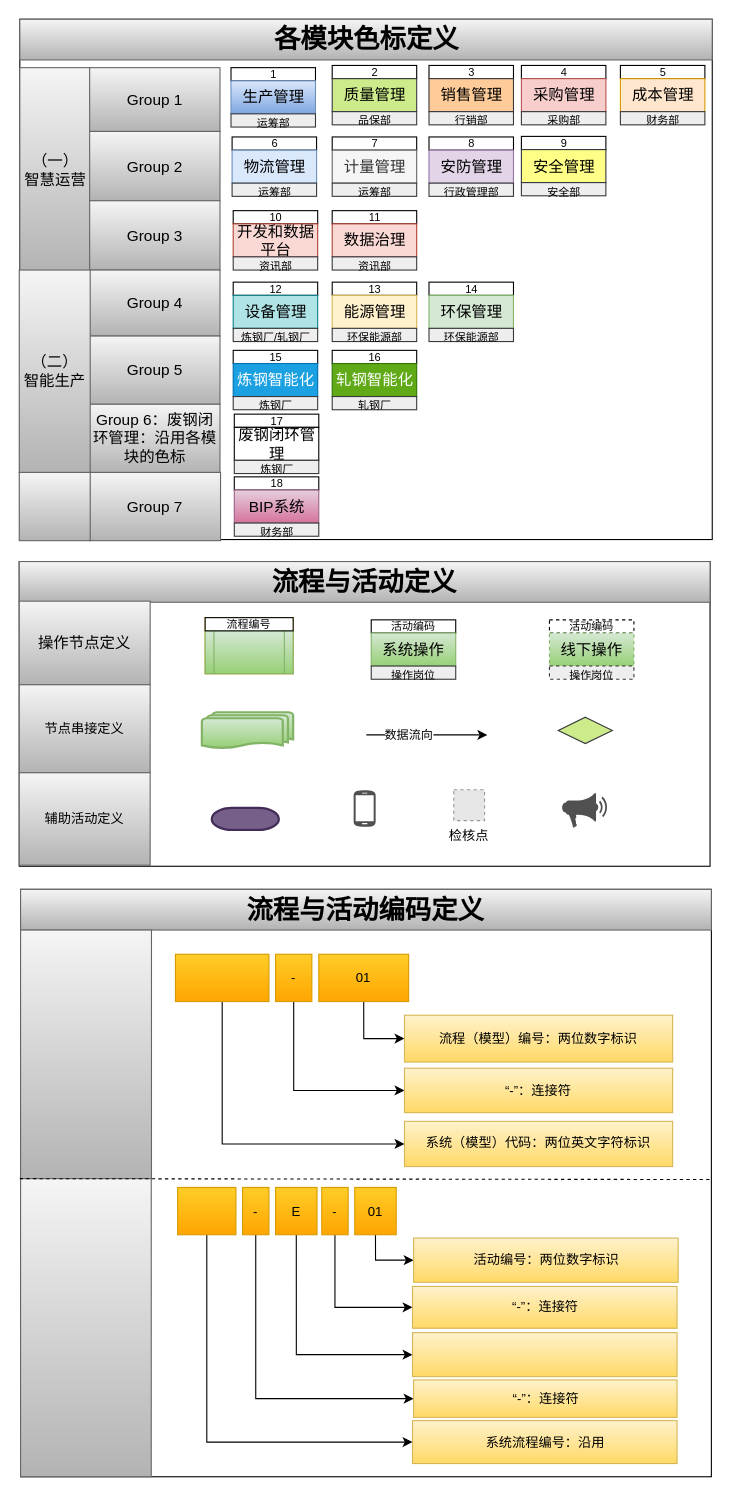
Image size: 732x1496. Some labels were removed from this diagram. Grey dashed boxes stand in for pictures. Here are the shapes that lost their labels. From the top down, the centre of each, then its label:
At [54,506]: "（三） 异质系统".
At [248,652]: "子流程 /模型".
At [247,730]: "系统表单".
At [584,730]: "逻辑判定".
At [244,818]: "开始/结束".
At [364,808]: "移动操作".
At [584,809]: "警示提醒".
At [221,977]: "MP".
At [85,1054]: "流程(模型) 编码定义".
At [206,1210]: "MP-01".
At [85,1327]: "活动编码定义".
At [544,1354]: "操作系统标识：E-金恒平台；C-异质系统；M-人工作业".
